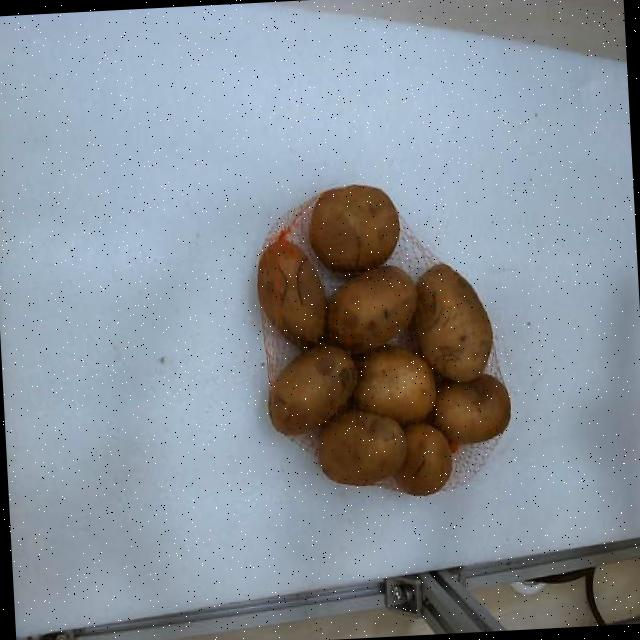potato: (414, 265, 493, 381), (268, 345, 357, 435), (328, 266, 418, 352), (309, 185, 399, 270), (259, 234, 326, 345), (318, 410, 406, 484), (354, 346, 436, 423), (436, 375, 511, 443), (396, 424, 452, 496)
